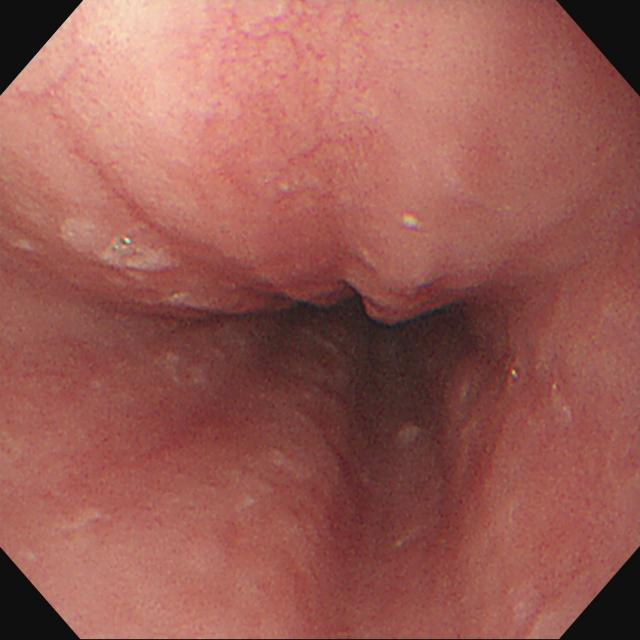E: (268, 273, 473, 426)
T: (88, 232, 180, 275)
